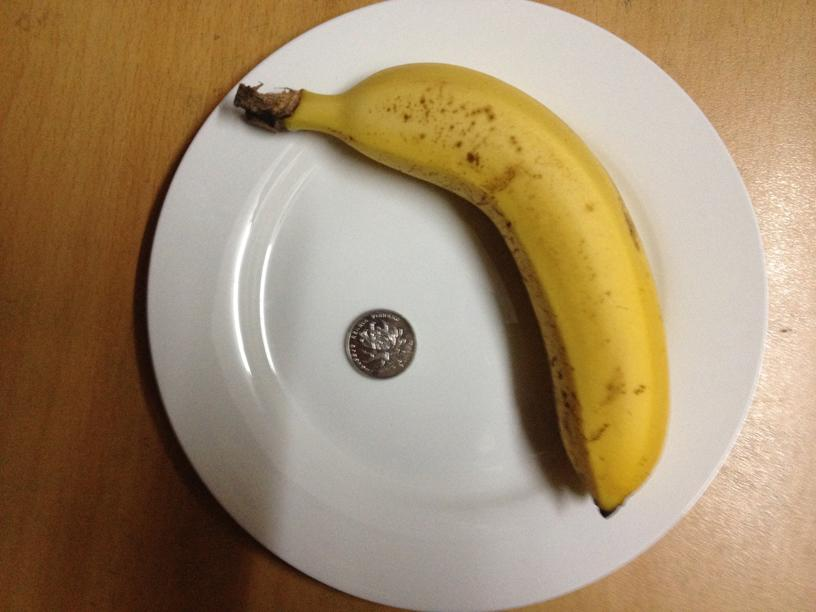banana: (283, 59, 670, 516)
coin: (343, 308, 415, 378)
